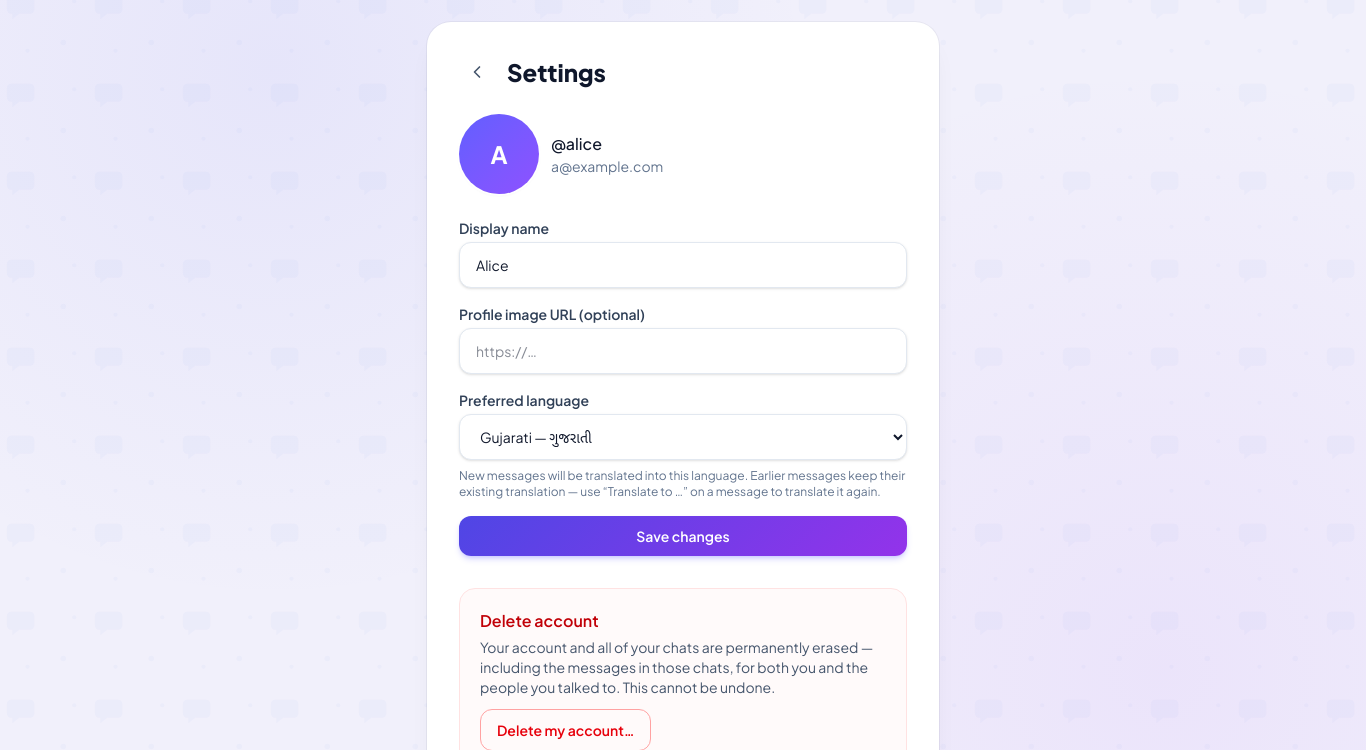
Test: delete account › requires opening the confirmation and entering the password
The image size is (1366, 750).
Expected: the field labelled "confirm with your password" is not shown
Click the button "Delete my account…" at (566,730), box x1=480 y1=709 x2=651 y2=749
(page scrolled)
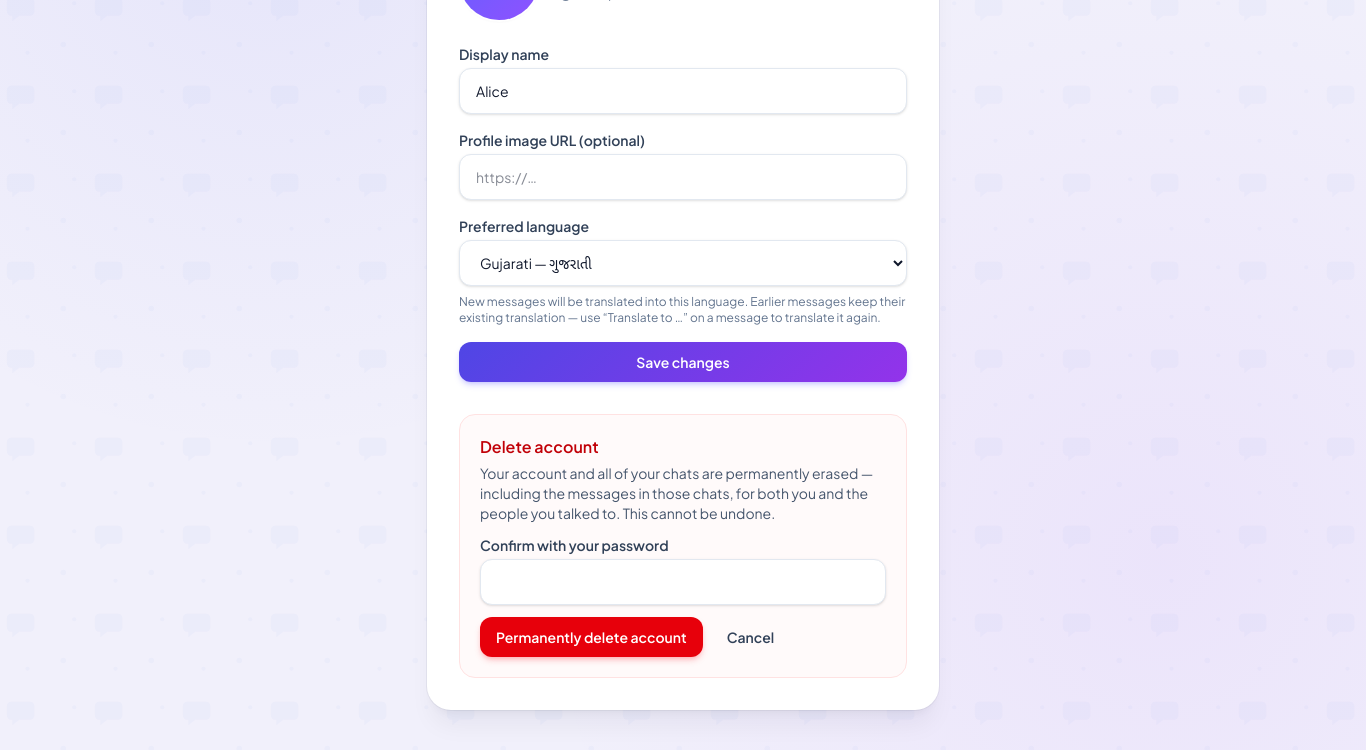
Click the button "Permanently delete account" at (591,637), box x1=480 y1=617 x2=703 y2=657
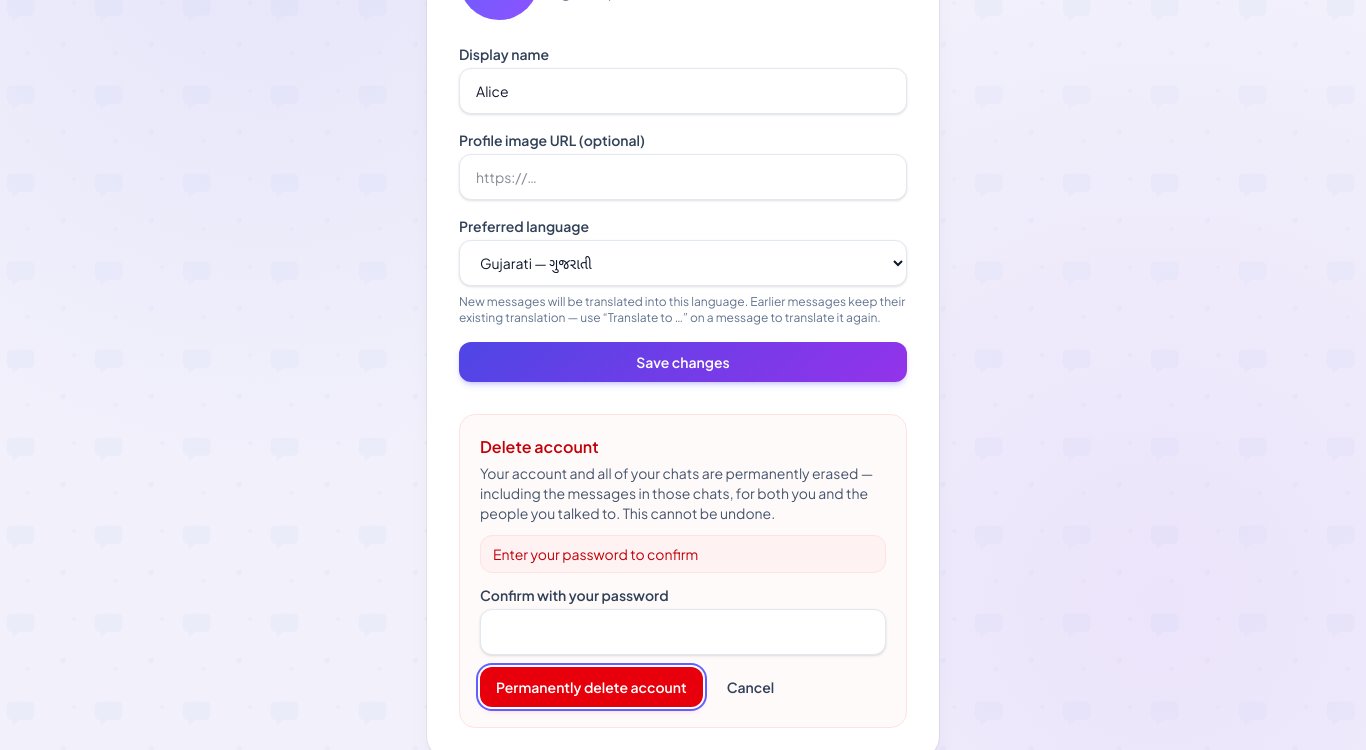
Result: the message shows "Enter your password" at x1=493 y1=545 x2=698 y2=563
Click the button "Cancel" at (750,687), box x1=711 y1=667 x2=790 y2=707
(page scrolled)
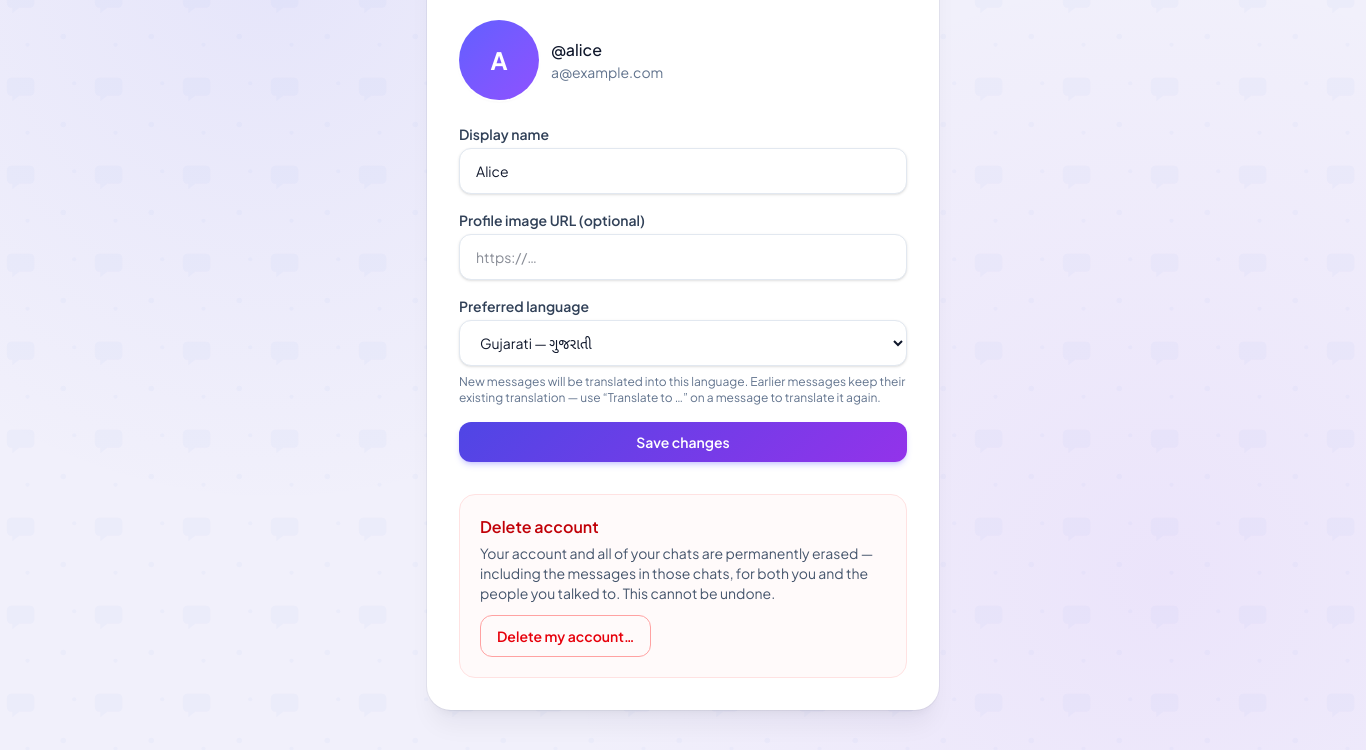
Result: the label labelled "Confirm with your password" is gone
